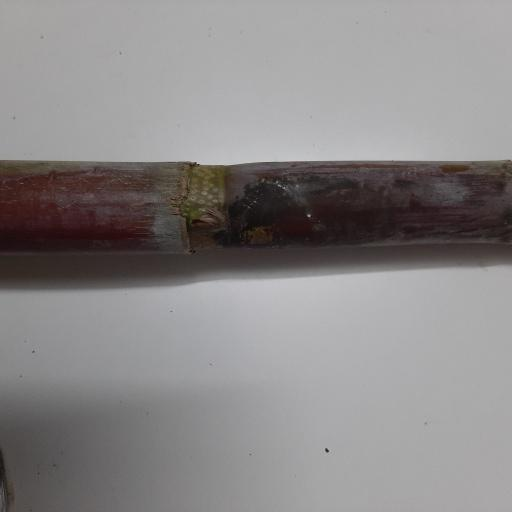Bud: (189, 214, 222, 232)
